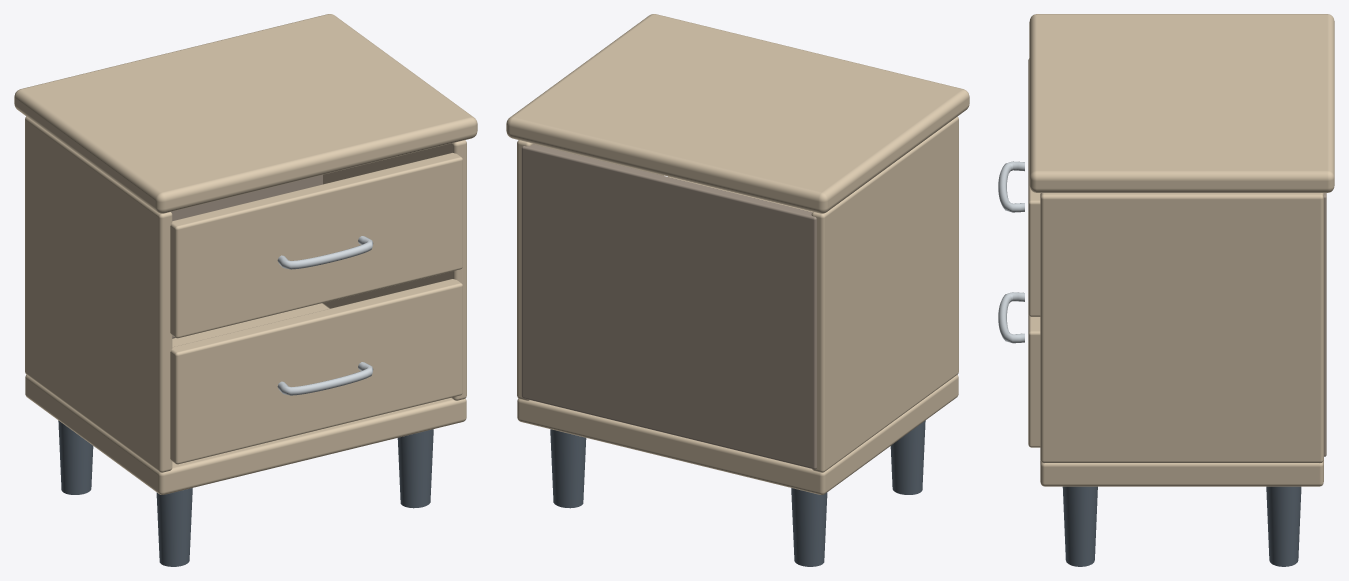
File: nightstand.glb
3 renders of one model, left to right at view 1: azimuth 30°, elevation 25°; view 2: azimuth 150°, elevation 25°; view 3: azimuth 270°, elevation 25°, orthographic. The views are drawn at different scales.
Visible parts, largest first — view 1: nightstand; view 2: nightstand; view 3: nightstand.
Boxes of the visible parts, box(x1,y1,x2,y2) form: nightstand: box(14, 14, 477, 566); nightstand: box(506, 14, 969, 566); nightstand: box(998, 14, 1334, 566).
Bounding box in the file's own units: 0.48 × 0.56 × 0.42.
